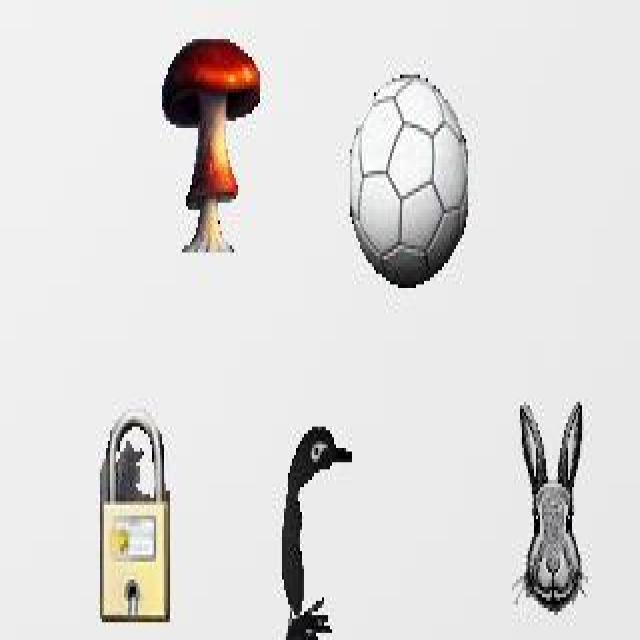Other Objects: (162, 38, 260, 250), (100, 406, 170, 618)
